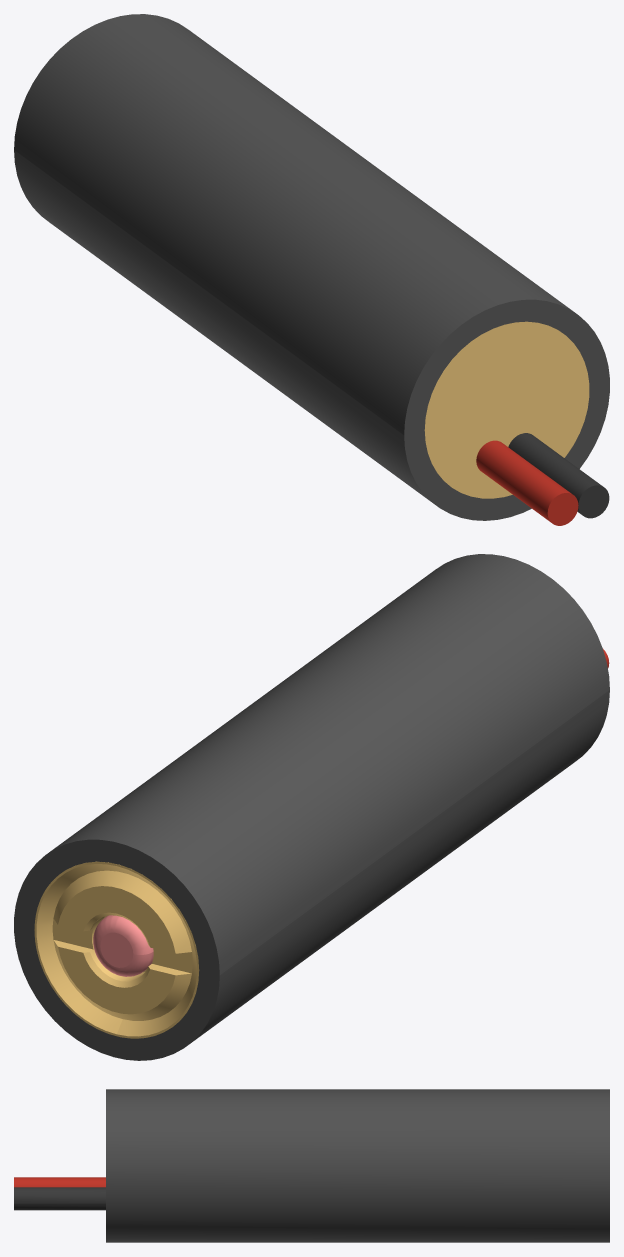
The model's file is Laser Diode.glb.
3 renders of one model, top to bottom at view 1: azimuth 30°, elevation 25°; view 2: azimuth 150°, elevation 25°; view 3: azimuth 270°, elevation 25°, orthographic. The views are drawn at different scales.
Visible parts, largest first — view 1: Laser Diode v2; view 2: Laser Diode v2; view 3: Laser Diode v2.
Boxes of the visible parts, x1,y1,x2,y2 form: Laser Diode v2: [14, 14, 609, 525]; Laser Diode v2: [14, 554, 609, 1060]; Laser Diode v2: [14, 1089, 609, 1242].
Bounding box in the file's own units: 9.99 × 10 × 38.8.
